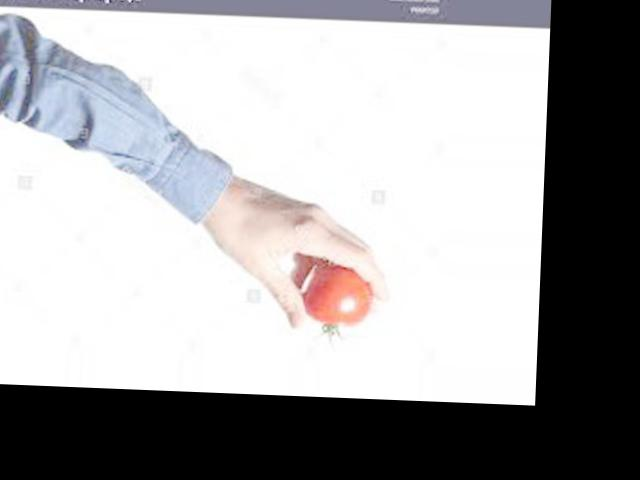tomato: (304, 266, 374, 325)
